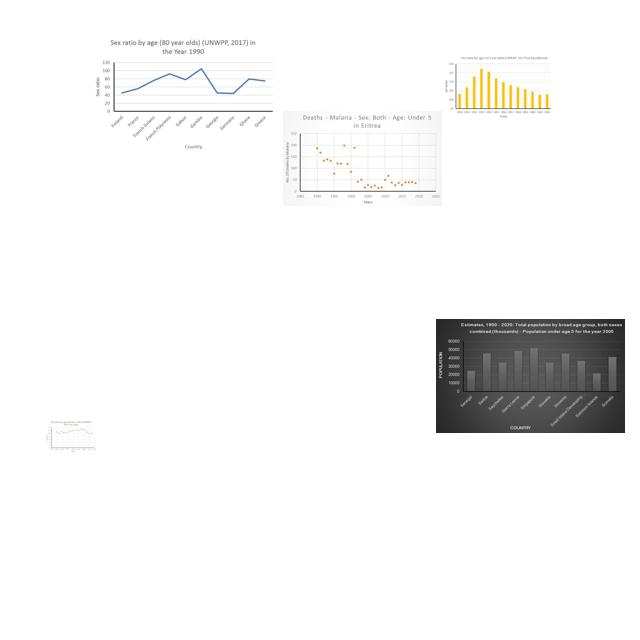Graph: (436, 319, 625, 433), (91, 37, 275, 154), (283, 111, 442, 206), (442, 55, 553, 119), (45, 420, 97, 453)
